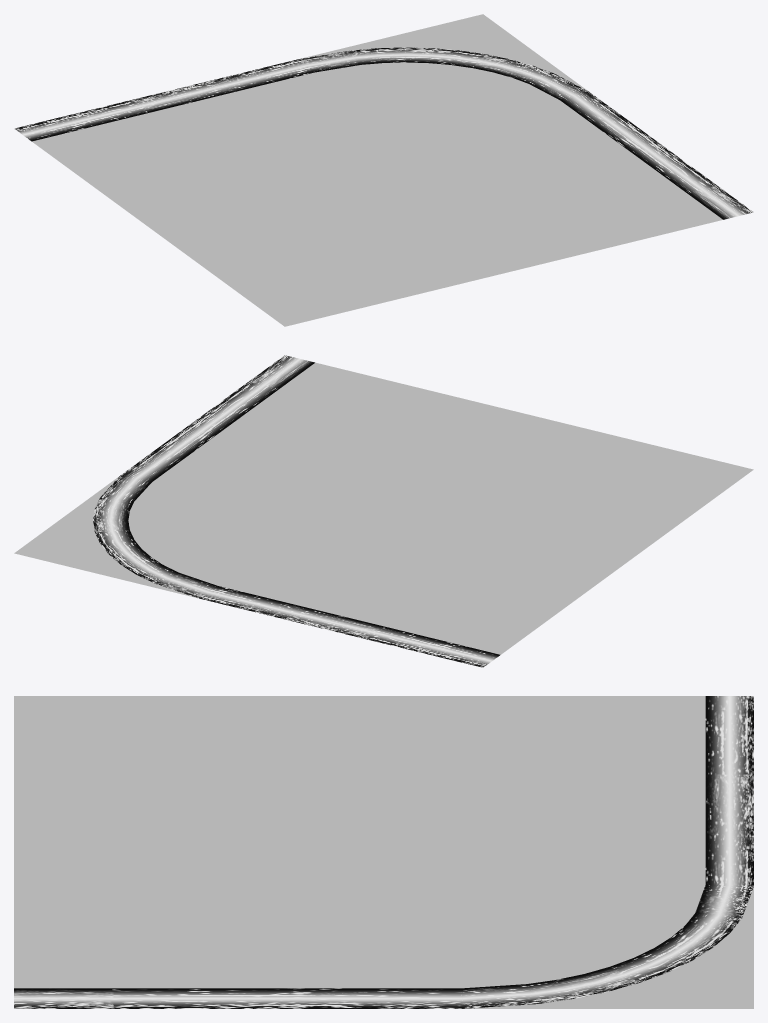
File: Floor_Tile_CornerUPRIGHT.fbx
3 views of the same model, one above another, from view 1: azimuth 30°, elevation 25°; view 2: azimuth 150°, elevation 25°; view 3: azimuth 270°, elevation 25° (orthographic). The views are drawn at different scales.
Parts seen in each view (by area): view 1: Floor_Tile_CornerUPRIGHT; view 2: Floor_Tile_CornerUPRIGHT; view 3: Floor_Tile_CornerUPRIGHT.
Part boxes in pixels (x1,y1,x2,y2): Floor_Tile_CornerUPRIGHT: [14, 14, 753, 326]; Floor_Tile_CornerUPRIGHT: [14, 355, 753, 667]; Floor_Tile_CornerUPRIGHT: [14, 696, 753, 1008].
Size of the model in its own units: 330 by 2.02e-14 by 330.
